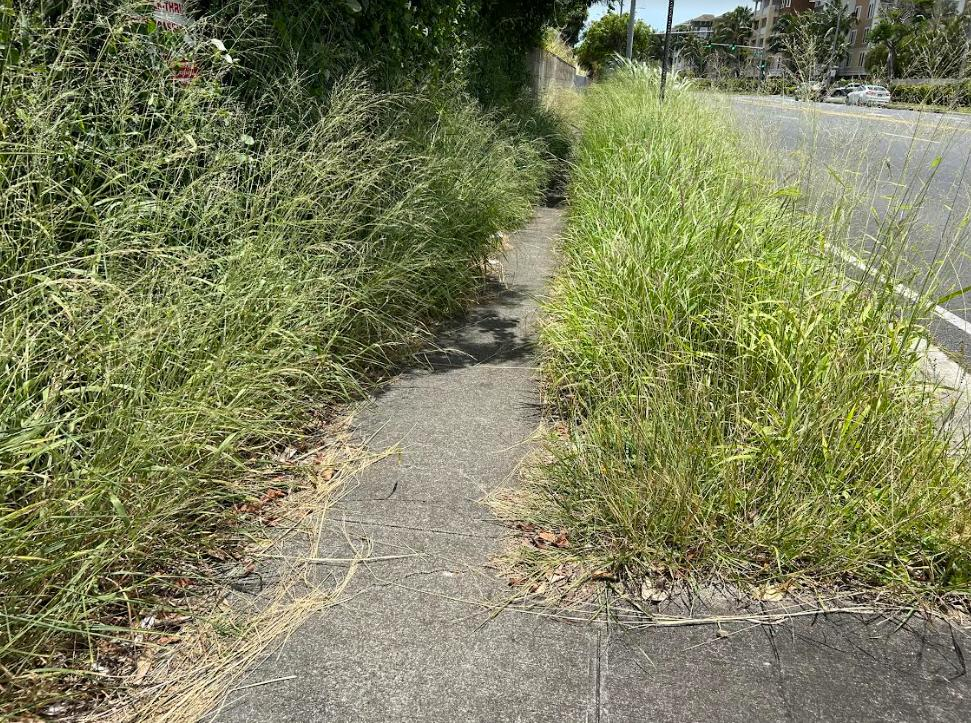overgrown grass: (0, 77, 545, 722), (542, 70, 970, 589)
